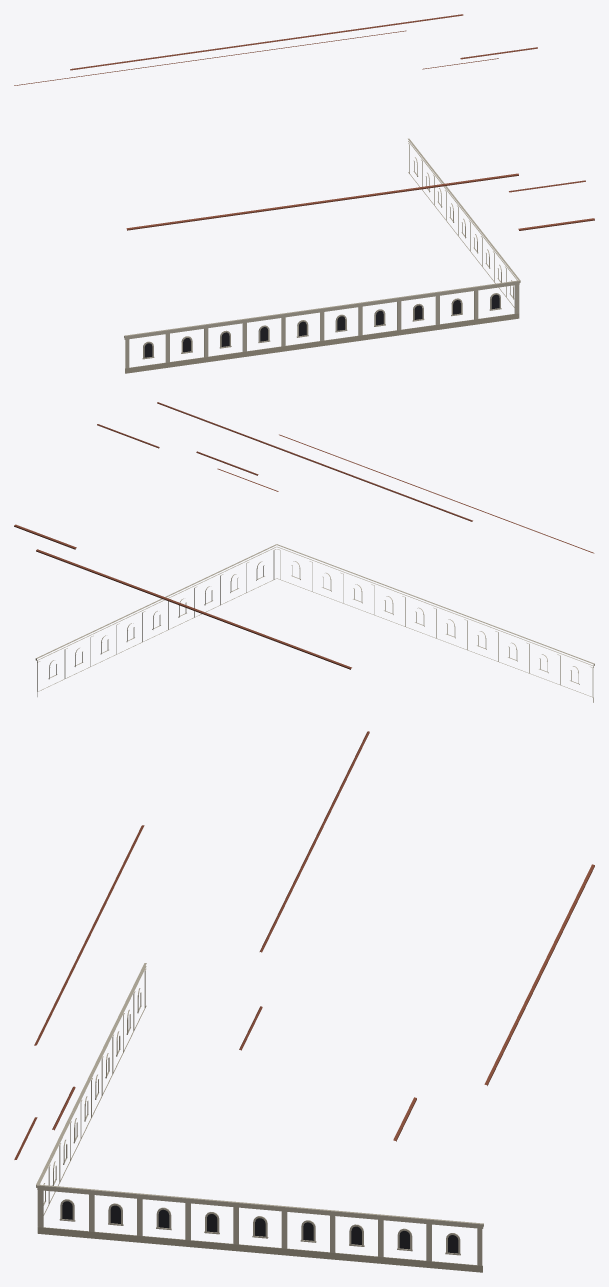
The picture shows the model from 3 angles, top to bottom: view 1: azimuth 30°, elevation 25°; view 2: azimuth 150°, elevation 25°; view 3: azimuth 270°, elevation 25°; orthographic projection. The views are drawn at different scales.
Visible parts, largest first — view 1: detail; view 2: detail; view 3: detail.
Part boxes in pixels (<box>): detail: <box>14,14,594,373</box>; detail: <box>14,402,594,702</box>; detail: <box>14,731,594,1272</box>.
Size of the model in its own units: 75.43 by 35.72 by 62.49.
